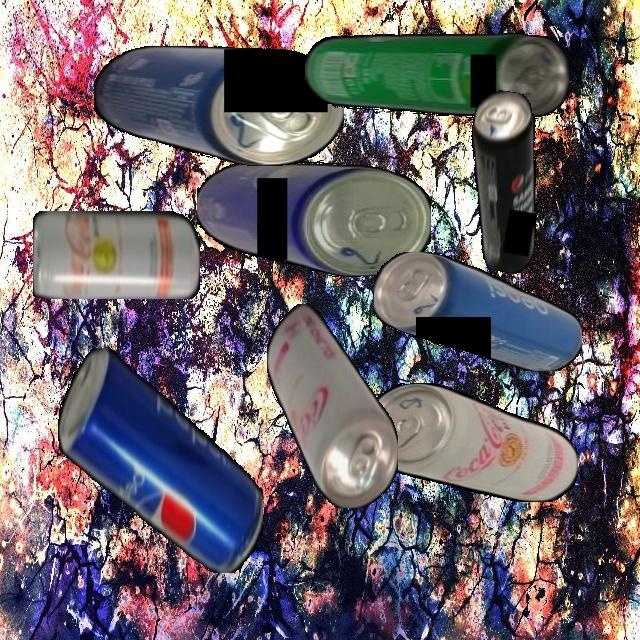debris: (57, 347, 263, 573), (93, 46, 344, 166), (266, 303, 398, 508), (196, 162, 431, 277), (365, 382, 578, 502), (374, 251, 582, 371), (304, 33, 569, 119), (449, 87, 560, 276), (32, 210, 200, 299)
